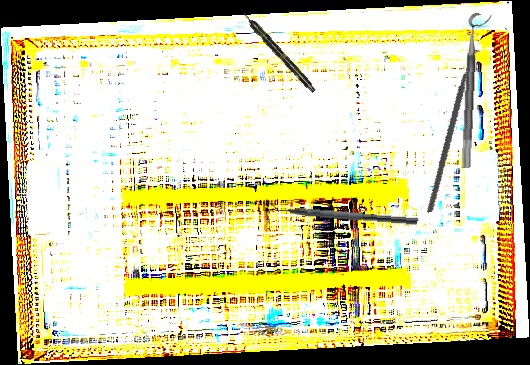Chopper: (386, 49, 526, 213), (263, 196, 420, 226)
Fixation Ring: (460, 12, 493, 170)
Handpiece: (239, 8, 318, 95)
